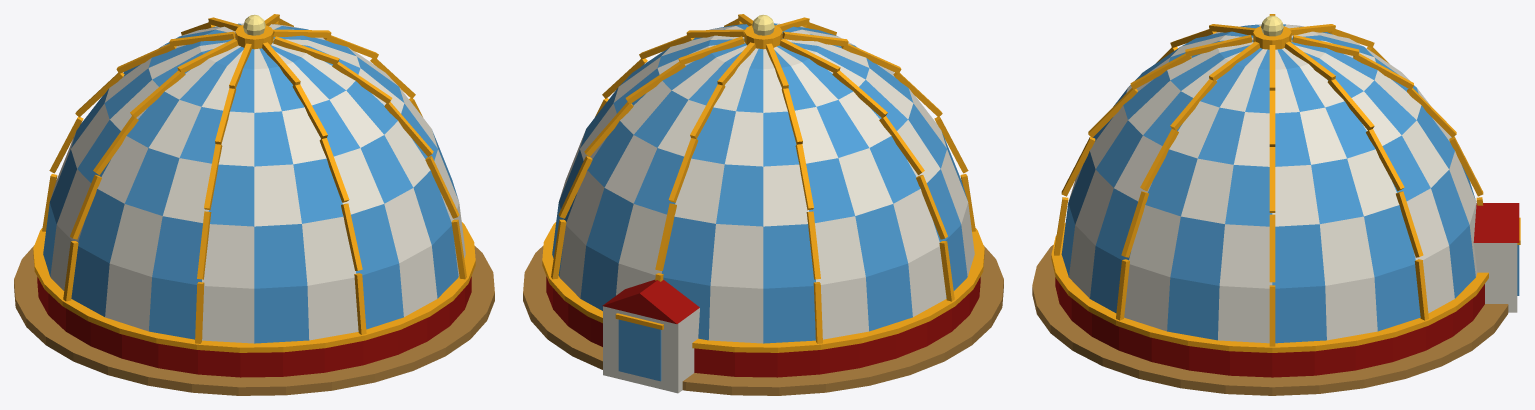
File: MegaDome.obj
3 views of the same model, side by side, from view 1: azimuth 30°, elevation 25°; view 2: azimuth 150°, elevation 25°; view 3: azimuth 270°, elevation 25° (orthographic).
Parts seen in each view (by area): view 1: MegaDome; view 2: MegaDome; view 3: MegaDome.
Boxes of the visible parts, box(x1,y1,x2,y2) form: MegaDome: box(14, 14, 494, 395); MegaDome: box(523, 14, 1003, 395); MegaDome: box(1032, 14, 1520, 395).
Size of the model in its own units: 14 by 8.93 by 14.24.
